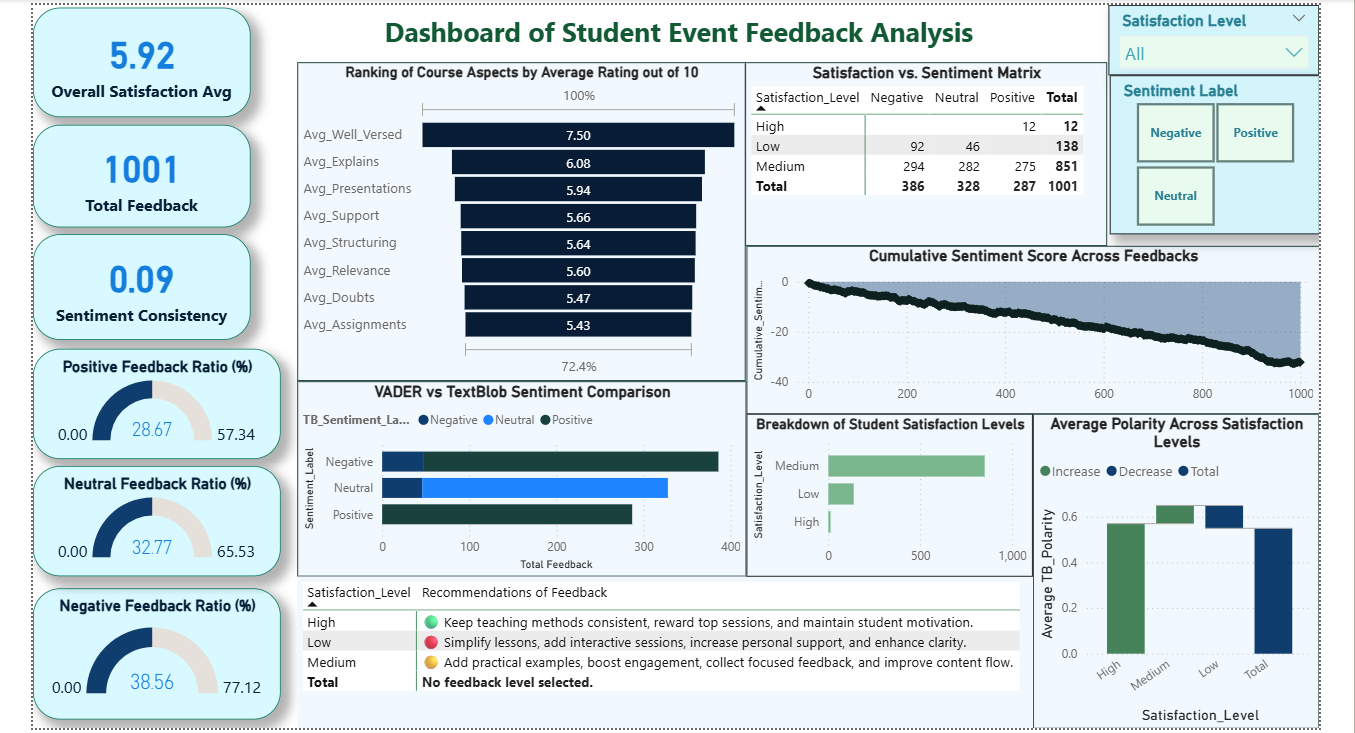

This screenshot's page, from the dashboard's own definition file:
{"tool":"powerbi","page":{"name":"Page 1","canvas":[1280,720],"ordinal":0},"visuals":[{"type":"card","fields":{"Values":["Student_Event_Feedback_Analysis.Overall Satisfaction Avg"]},"box":[0,2.6,216.4,108.9],"z":0},{"type":"textbox","box":[226.8,2.6,832.1,50.5],"z":1000},{"type":"card","fields":{"Values":["Student_Event_Feedback_Analysis.Total Feedback"]},"box":[0,119.2,216.4,102.4],"z":2000},{"type":"funnel","title":"Ranking of Course Aspects by Average Rating out of 10","fields":{"Y":["Student_Event_Feedback_Analysis.Avg_Well_Versed","Student_Event_Feedback_Analysis.Avg_Explains","Student_Event_Feedback_Analysis.Avg_Presentations","Student_Event_Feedback_Analysis.Avg_Support","Student_Event_Feedback_Analysis.Avg_Structuring","Student_Event_Feedback_Analysis.Avg_Relevance","Student_Event_Feedback_Analysis.Avg_Doubts","Student_Event_Feedback_Analysis.Avg_Assignments"]},"box":[263.1,57,445.8,317.5],"z":3000},{"type":"pivotTable","title":"Satisfaction vs. Sentiment Matrix","fields":{"Rows":["Student_Event_Feedback_Analysis.Satisfaction_Level"],"Columns":["Student_Event_Feedback_Analysis.Sentiment_Label"],"Values":["CountNonNull(Student_Event_Feedback_Analysis.Student ID)"]},"box":[708.9,57,360.3,182.7],"z":4000},{"type":"waterfallChart","title":"Average Polarity Across Satisfaction Levels","fields":{"Category":["Student_Event_Feedback_Analysis.Satisfaction_Level"],"Y":["Student_Event_Feedback_Analysis.Average TB_Polarity"]},"box":[995.4,407,285.1,313.6],"z":5000},{"type":"barChart","title":"VADER vs TextBlob Sentiment Comparison","fields":{"Category":["Student_Event_Feedback_Analysis.Sentiment_Label"],"Series":["Student_Event_Feedback_Analysis.TB_Sentiment_Label"],"Y":["Student_Event_Feedback_Analysis.Total Feedback"]},"box":[263.1,374.6,447.1,194.4],"z":6000},{"type":"card","fields":{"Values":["Student_Event_Feedback_Analysis.Sentiment Consistency"]},"box":[0,228.1,216.4,105],"z":7000},{"type":"gauge","title":"Positive Feedback Ratio (%)","fields":{"Y":["Student_Event_Feedback_Analysis.Positive_Feedback_Ratio"]},"box":[0,342.2,246.3,110.2],"z":8000},{"type":"gauge","title":"Negative Feedback Ratio (%)","fields":{"Y":["Student_Event_Feedback_Analysis.Negative_Feedback_Ratio"]},"box":[0,580.6,246.3,130.9],"z":9000},{"type":"areaChart","title":"Cumulative Sentiment Score Across Feedbacks","fields":{"Category":["Student_Event_Feedback_Analysis.Student ID"],"Y":["Student_Event_Feedback_Analysis.Cumulative_Sentiment_Score"]},"box":[710.2,239.8,570.3,167.2],"z":10000},{"type":"slicer","fields":{"Values":["Student_Event_Feedback_Analysis.Satisfaction_Level"]},"box":[1070.5,0,210,70],"z":11000},{"type":"slicer","fields":{"Values":["Student_Event_Feedback_Analysis.Sentiment_Label"]},"box":[1071.8,70,208.7,158.1],"z":12000},{"type":"pivotTable","fields":{"Rows":["Student_Event_Feedback_Analysis.Satisfaction_Level"],"Values":["Student_Event_Feedback_Analysis.Recommendations of Feedback"]},"box":[263.1,569,732.3,151.6],"z":13000},{"type":"gauge","title":"Neutral Feedback Ratio (%)","fields":{"Y":["Student_Event_Feedback_Analysis.Medium_Feedback_Ratio"]},"box":[0,458.8,246.3,110.2],"z":14000},{"type":"barChart","title":"Breakdown of Student Satisfaction Levels","fields":{"Category":["Student_Event_Feedback_Analysis.Satisfaction_Level"],"Y":["CountNonNull(Student_Event_Feedback_Analysis.Student ID)"]},"box":[710.2,407,285.1,162],"z":15000}]}

Visuals, with their boxes in screenshot pixels (x1, y1, x2, y2):
card - Student_Event_Feedback_Analysis.Overall Satisfaction Avg: bbox=[28, 6, 246, 116]
textbox: bbox=[256, 6, 1093, 57]
card - Student_Event_Feedback_Analysis.Total Feedback: bbox=[28, 123, 246, 226]
"Ranking of Course Aspects by Average Rating out of 10" funnel: bbox=[293, 61, 741, 380]
"Satisfaction vs. Sentiment Matrix" pivotTable: bbox=[741, 61, 1103, 244]
"Average Polarity Across Satisfaction Levels" waterfallChart: bbox=[1029, 413, 1316, 728]
"VADER vs TextBlob Sentiment Comparison" barChart: bbox=[293, 380, 742, 576]
card - Student_Event_Feedback_Analysis.Sentiment Consistency: bbox=[28, 233, 246, 338]
"Positive Feedback Ratio (%)" gauge: bbox=[28, 348, 276, 458]
"Negative Feedback Ratio (%)" gauge: bbox=[28, 587, 276, 719]
"Cumulative Sentiment Score Across Feedbacks" areaChart: bbox=[742, 245, 1316, 413]
slicer - Student_Event_Feedback_Analysis.Satisfaction_Level: bbox=[1104, 4, 1316, 74]
slicer - Student_Event_Feedback_Analysis.Sentiment_Label: bbox=[1106, 74, 1316, 233]
pivotTable - Student_Event_Feedback_Analysis.Satisfaction_Level x Student_Event_Feedback_Analysis.Recommendations of Feedback: bbox=[293, 576, 1029, 728]
"Neutral Feedback Ratio (%)" gauge: bbox=[28, 465, 276, 576]
"Breakdown of Student Satisfaction Levels" barChart: bbox=[742, 413, 1029, 576]
